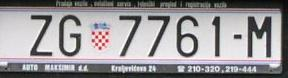-: (234, 34, 242, 40)
1: (211, 16, 222, 58)
6: (176, 15, 198, 57)
7: (119, 14, 143, 57), (147, 14, 170, 58)
G: (58, 15, 81, 56)
M: (246, 16, 272, 58)
Z: (30, 14, 53, 57)
